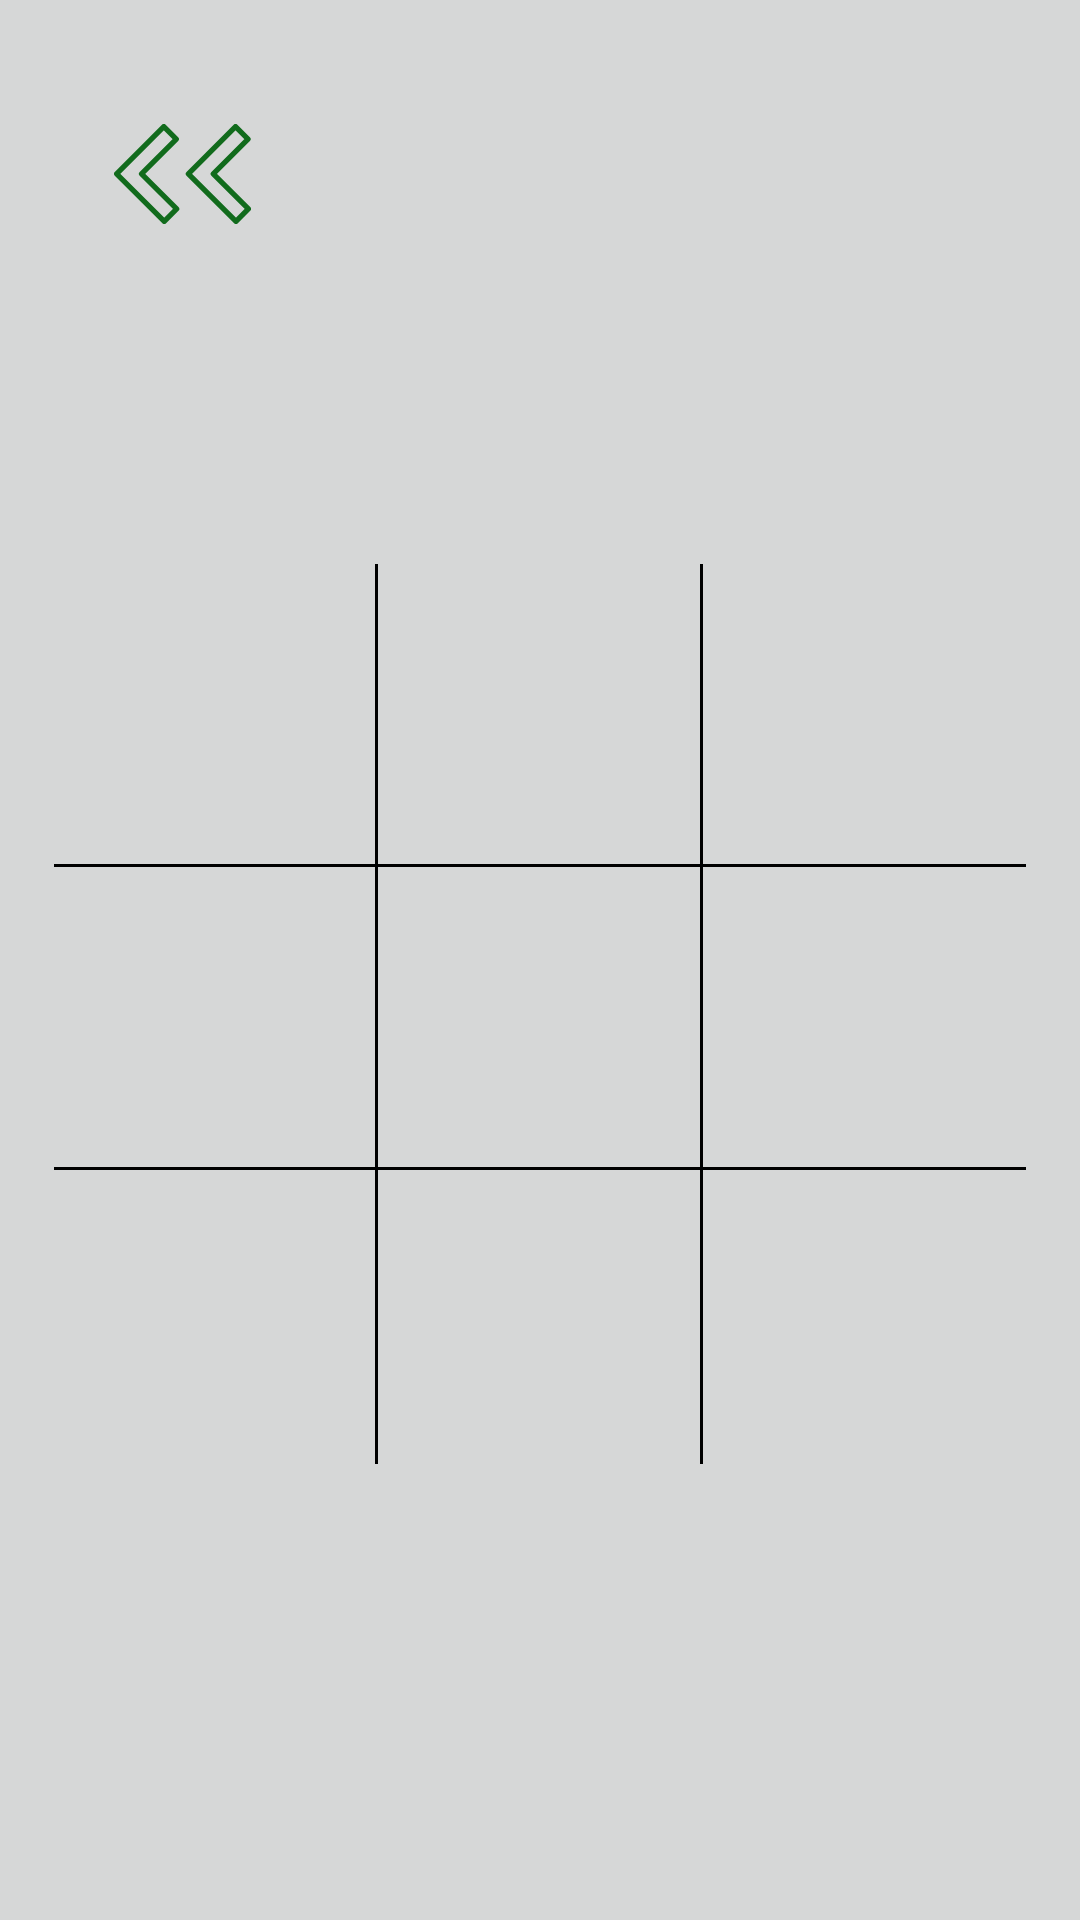

Point at icon controls on the screen. Image size 1080 x 1920, points as point (x, y).
back: point (182, 174)
